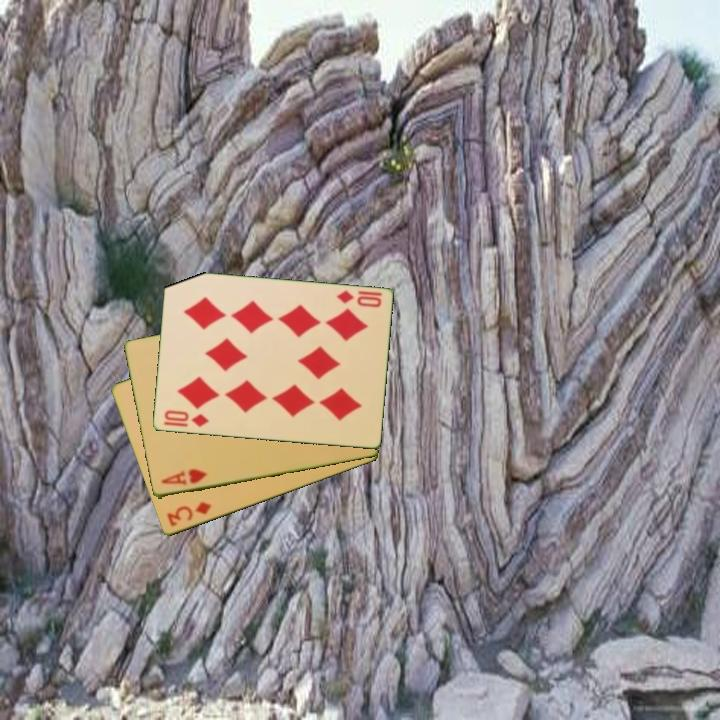10d: (333, 287, 384, 311), (160, 407, 211, 430)
3d: (163, 498, 214, 529)
Ah: (158, 465, 210, 488)
